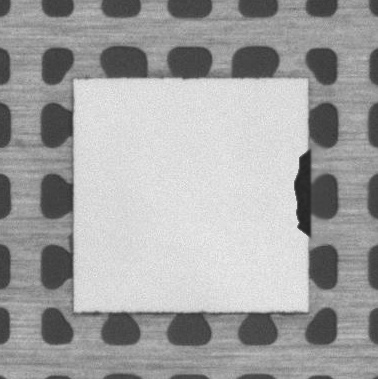DIE_BROKEN: (291, 147, 313, 242)
